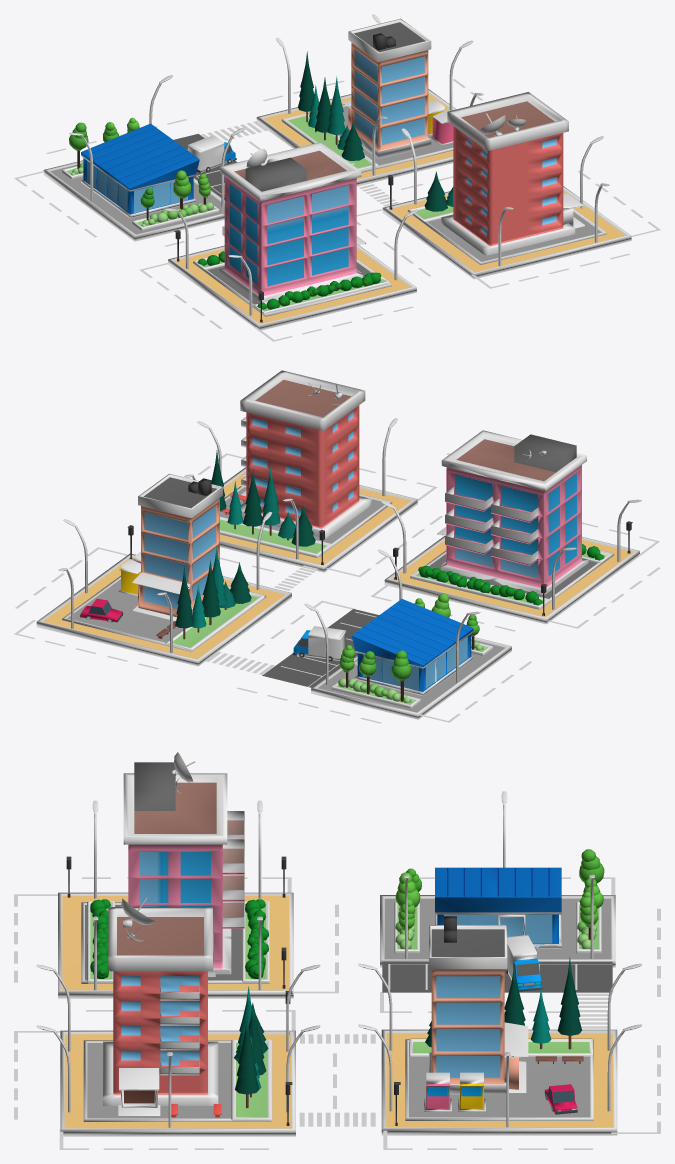
The model's file is city.glb.
3 renders of one model, top to bottom at view 1: azimuth 30°, elevation 25°; view 2: azimuth 150°, elevation 25°; view 3: azimuth 270°, elevation 25°, orthographic. The views are drawn at different scales.
Visible parts, largest first — view 1: city; view 2: city; view 3: city.
Part boxes in pixels (x1,y1,x2,y2): city: (14, 14, 660, 341); city: (14, 370, 660, 723); city: (14, 752, 660, 1149).
Bounding box in the file's own units: 191 × 60.88 × 191.
Materials: 2 (2 with a texture image).
